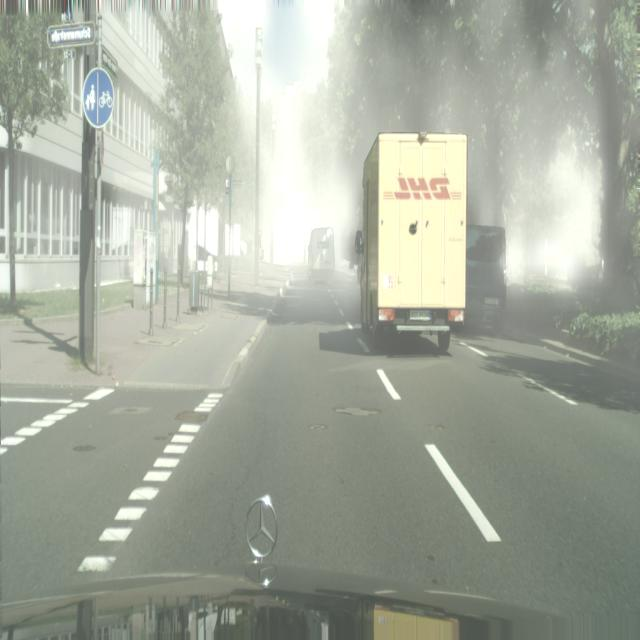motorcycle: (308, 227, 335, 284)
rider: (358, 133, 468, 354)
truck: (464, 215, 511, 338)
